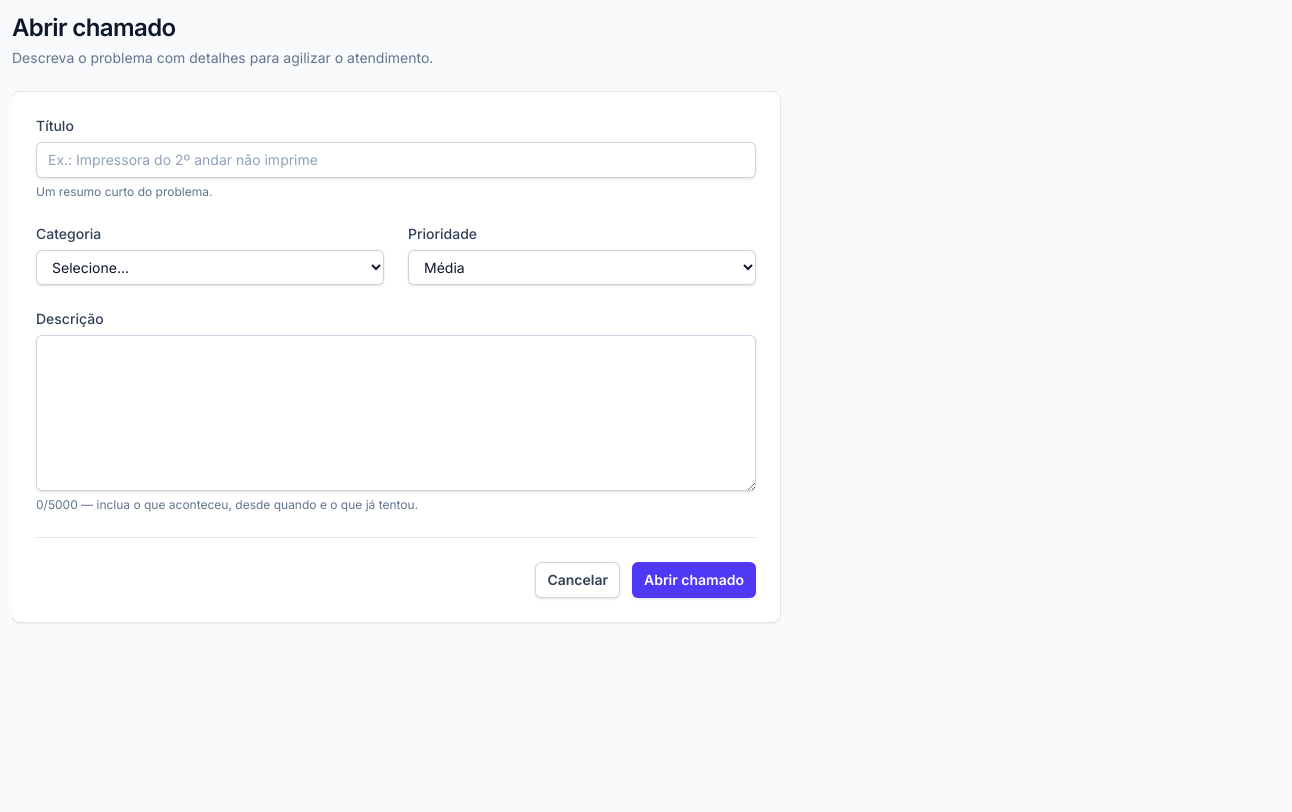
Scenario: NewTicketPage › envia os dados convertidos para a API
Type "Monitor piscando" into the field labelled "Título".
click(396, 160); type("Monitor piscando")  # box [36, 142, 756, 178]
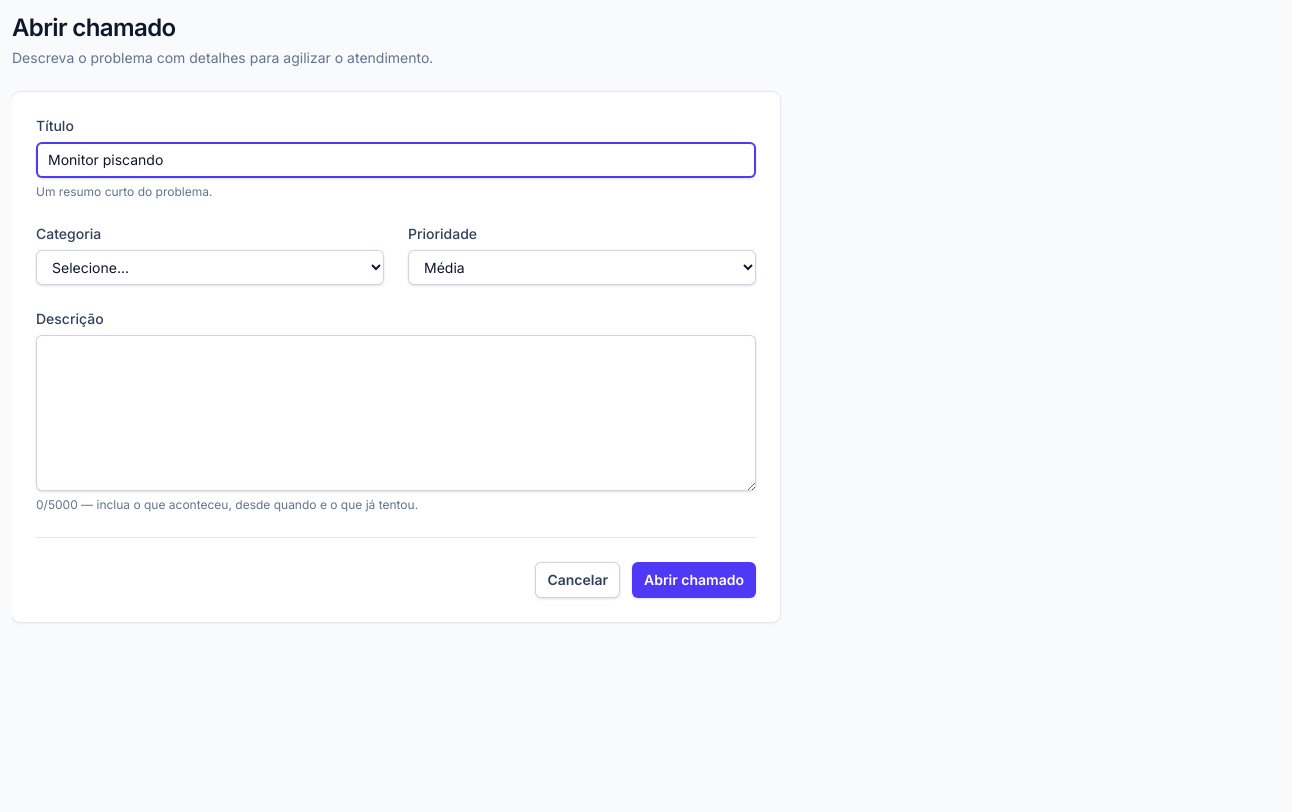
Select "Rede" in the dropdown labelled "Categoria" at (210, 268), box [36, 250, 384, 285]
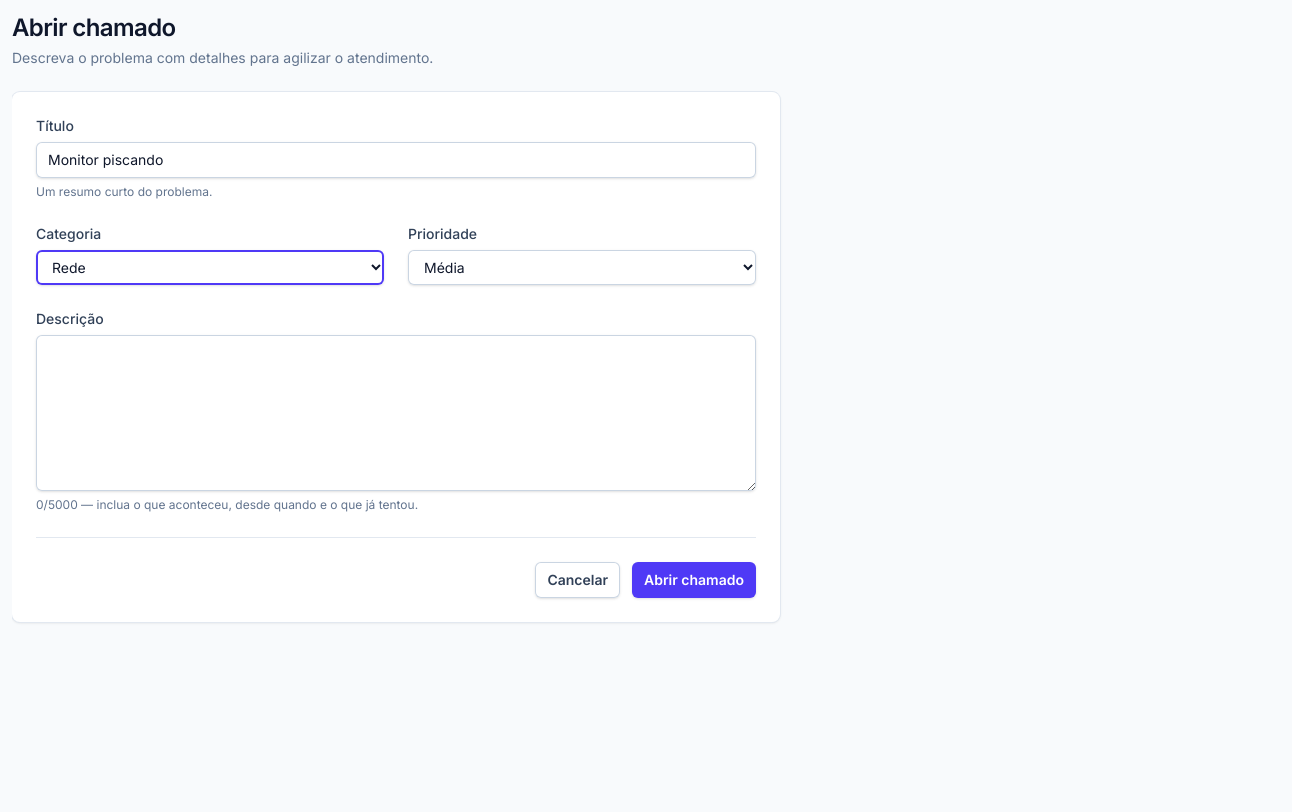
Select "Alta" in the dropdown labelled "Prioridade" at (582, 268), box [408, 250, 756, 285]
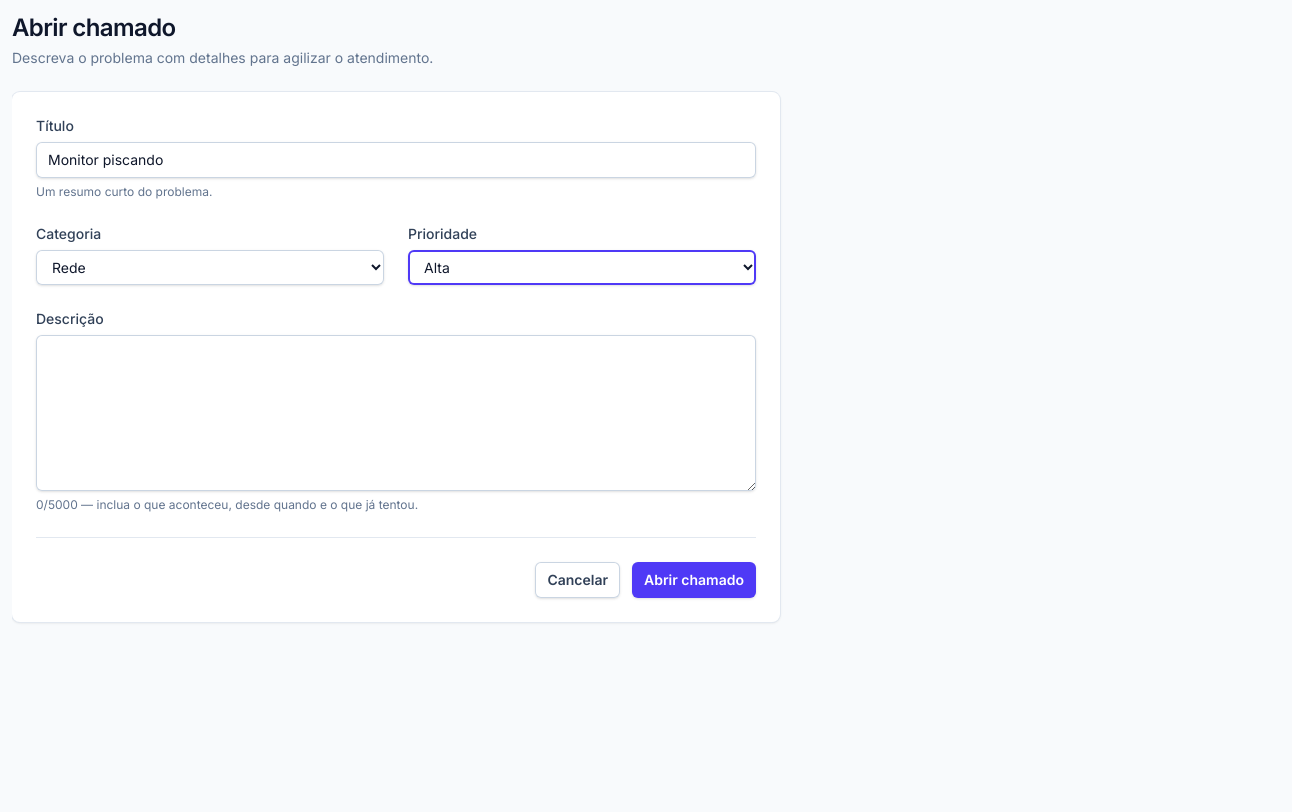
Type "O monitor pisca a cada minuto." into the text box labelled "Descrição".
click(396, 413); type("O monitor pisca a cada minuto.")  # box [36, 335, 756, 491]
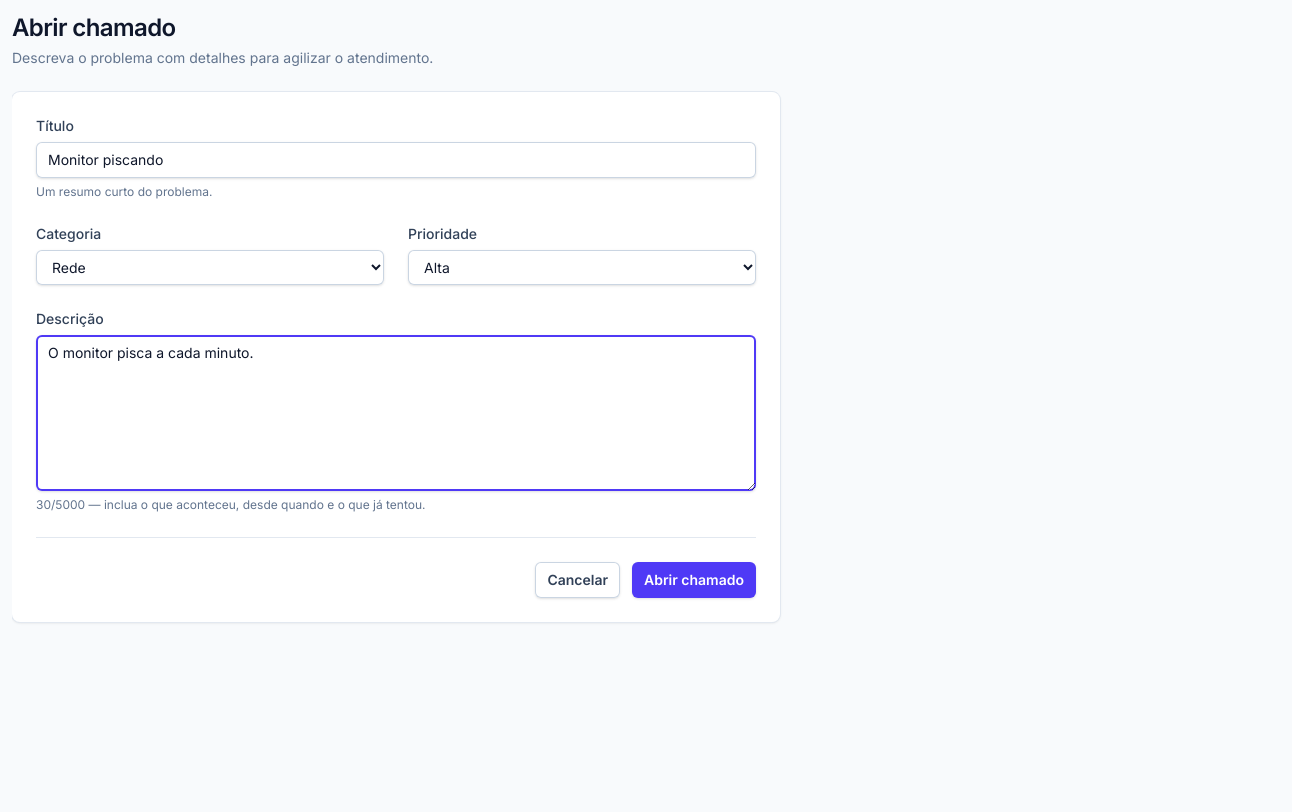
Click the button "Abrir chamado".
click(694, 580)  # box [632, 562, 756, 598]
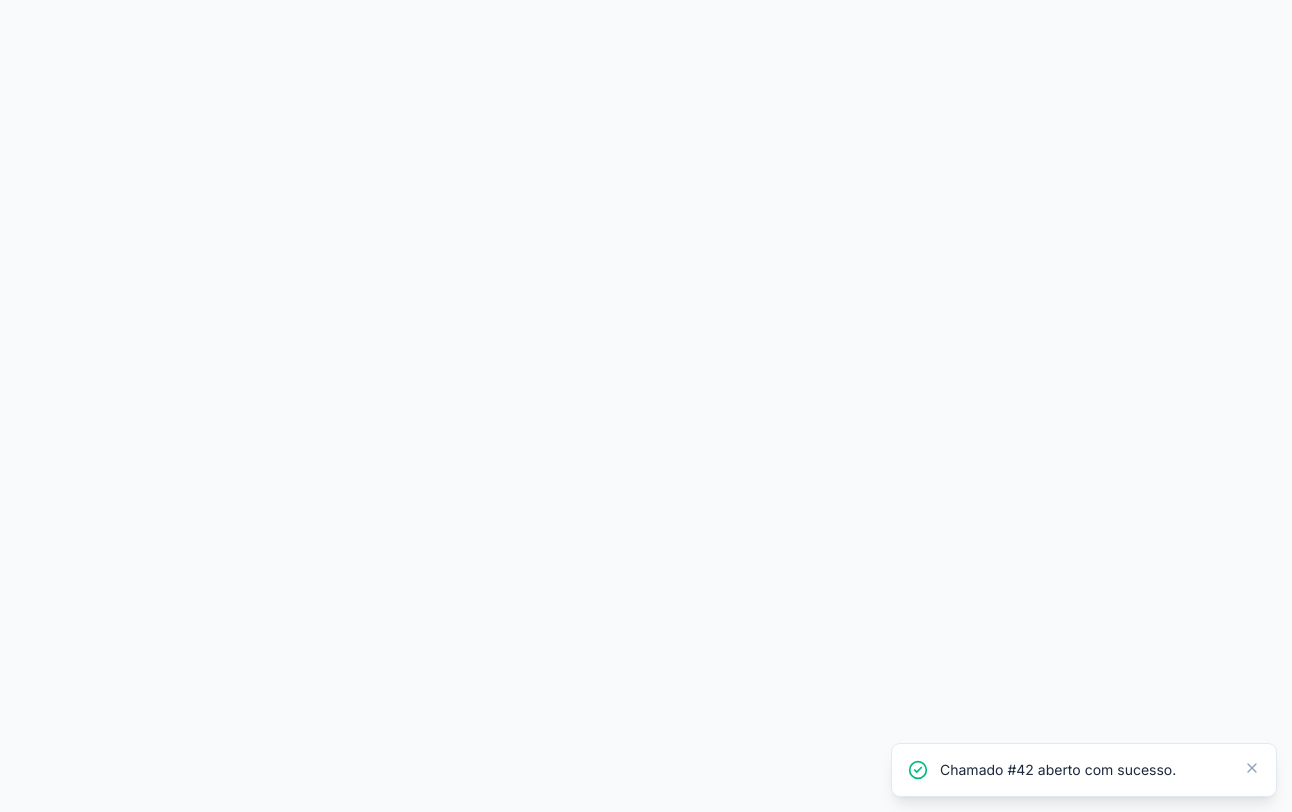
Check: the text "Chamado #42 aberto com sucesso." is shown, box [940, 761, 1176, 778]
